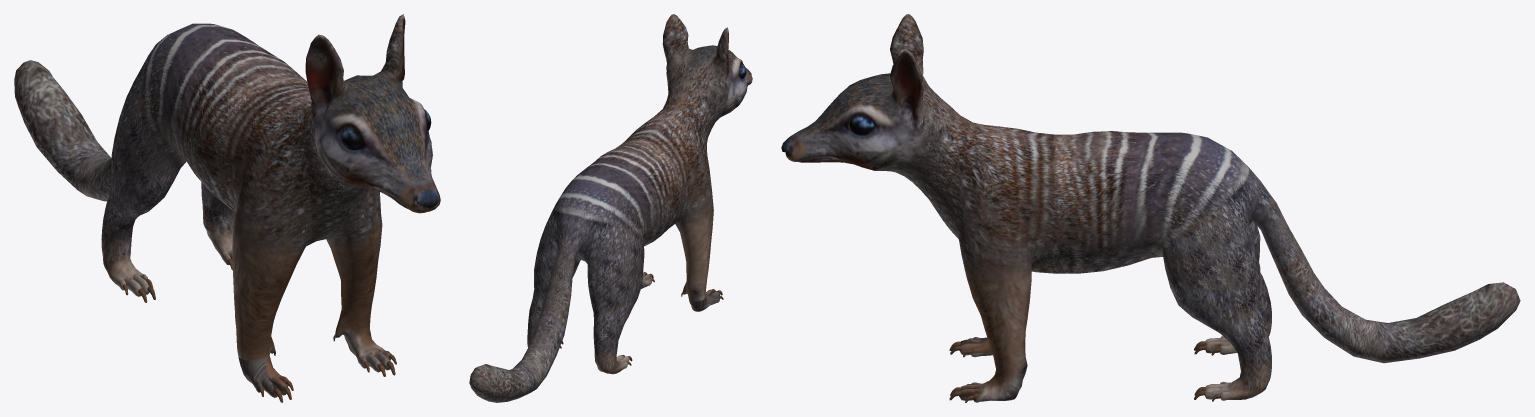
The model's file is Row_Numbat.fbx.
3 views of the same model, side by side, from view 1: azimuth 30°, elevation 25°; view 2: azimuth 150°, elevation 25°; view 3: azimuth 270°, elevation 25° (orthographic). The views are drawn at different scales.
Visible parts, largest first — view 1: polySurface5, Numbat_R; view 2: polySurface5; view 3: polySurface5.
Part boxes in pixels (left/top/right/bottom): polySurface5: left=14, top=14, right=440, bottom=402; Numbat_R: left=341, top=126, right=362, bottom=149; polySurface5: left=469, top=14, right=752, bottom=402; polySurface5: left=781, top=14, right=1520, bottom=402.
Size of the model in its own units: 1.11 by 2.91 by 5.68.
1 material, 1 textured.
